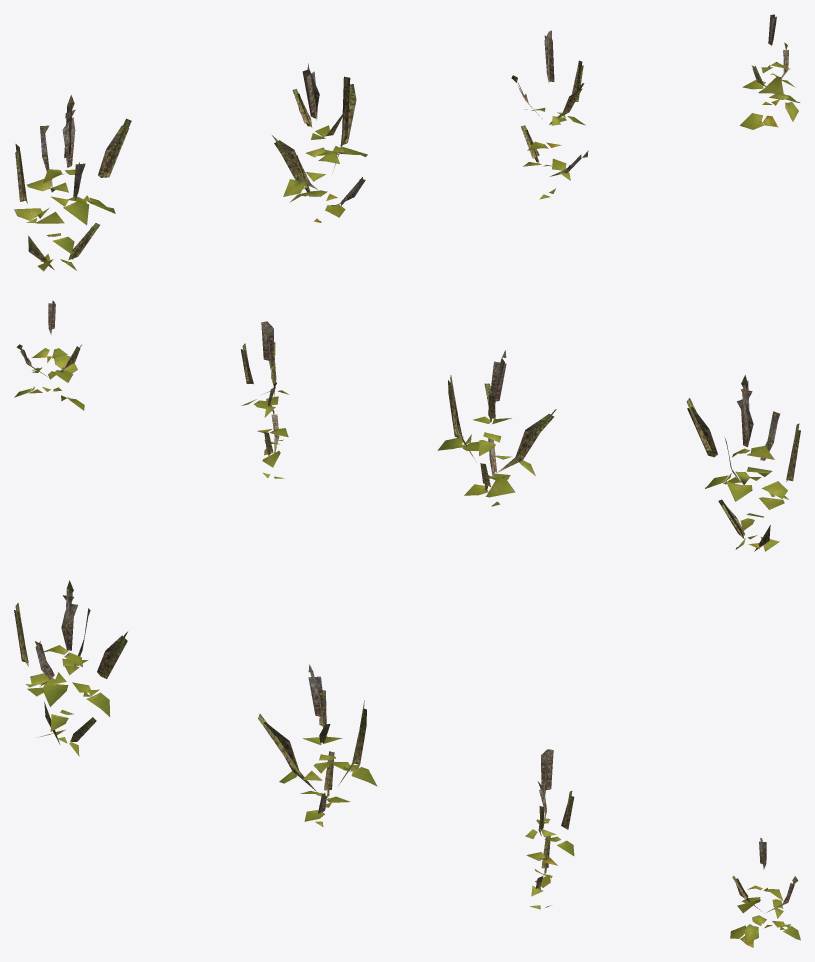
File: shrub_03.glb
3 views of the same model, one above another, from view 1: azimuth 30°, elevation 25°; view 2: azimuth 150°, elevation 25°; view 3: azimuth 330°, elevation 25° (orthographic). The views are drawn at different scales.
Visible parts, largest first — view 1: shrub_03_a, shrub_03_b, shrub_03_c, shrub_03_d; view 2: shrub_03_a, shrub_03_b, shrub_03_c, shrub_03_d; view 3: shrub_03_a, shrub_03_b, shrub_03_c, shrub_03_d.
Part boxes in pixels (left/top/right/bottom): shrub_03_a: left=14, top=95, right=131, bottom=271; shrub_03_b: left=272, top=63, right=367, bottom=222; shrub_03_c: left=511, top=30, right=588, bottom=199; shrub_03_d: left=740, top=14, right=800, bottom=129; shrub_03_a: left=686, top=375, right=800, bottom=551; shrub_03_b: left=437, top=350, right=556, bottom=506; shrub_03_c: left=240, top=321, right=288, bottom=478; shrub_03_d: left=14, top=300, right=84, bottom=410; shrub_03_a: left=14, top=580, right=127, bottom=756; shrub_03_b: left=258, top=664, right=377, bottom=826; shrub_03_c: left=525, top=749, right=574, bottom=909; shrub_03_d: left=730, top=838, right=800, bottom=947.
Size of the model in its own units: 1.36 by 0.3623 by 0.1512.
Materials: 1 (1 with a texture image).
